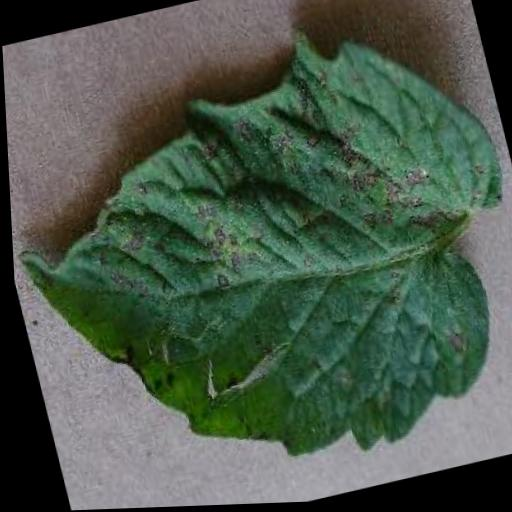Early Blight: (1, 0, 512, 512)
